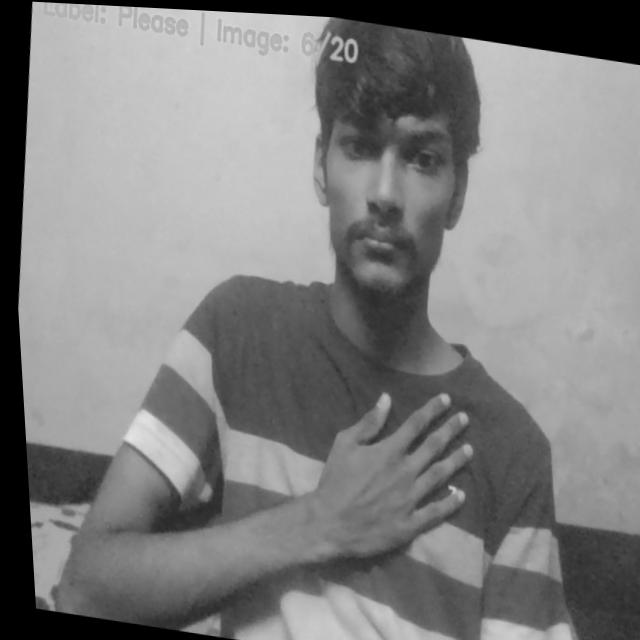Please: (279, 367, 479, 583)
